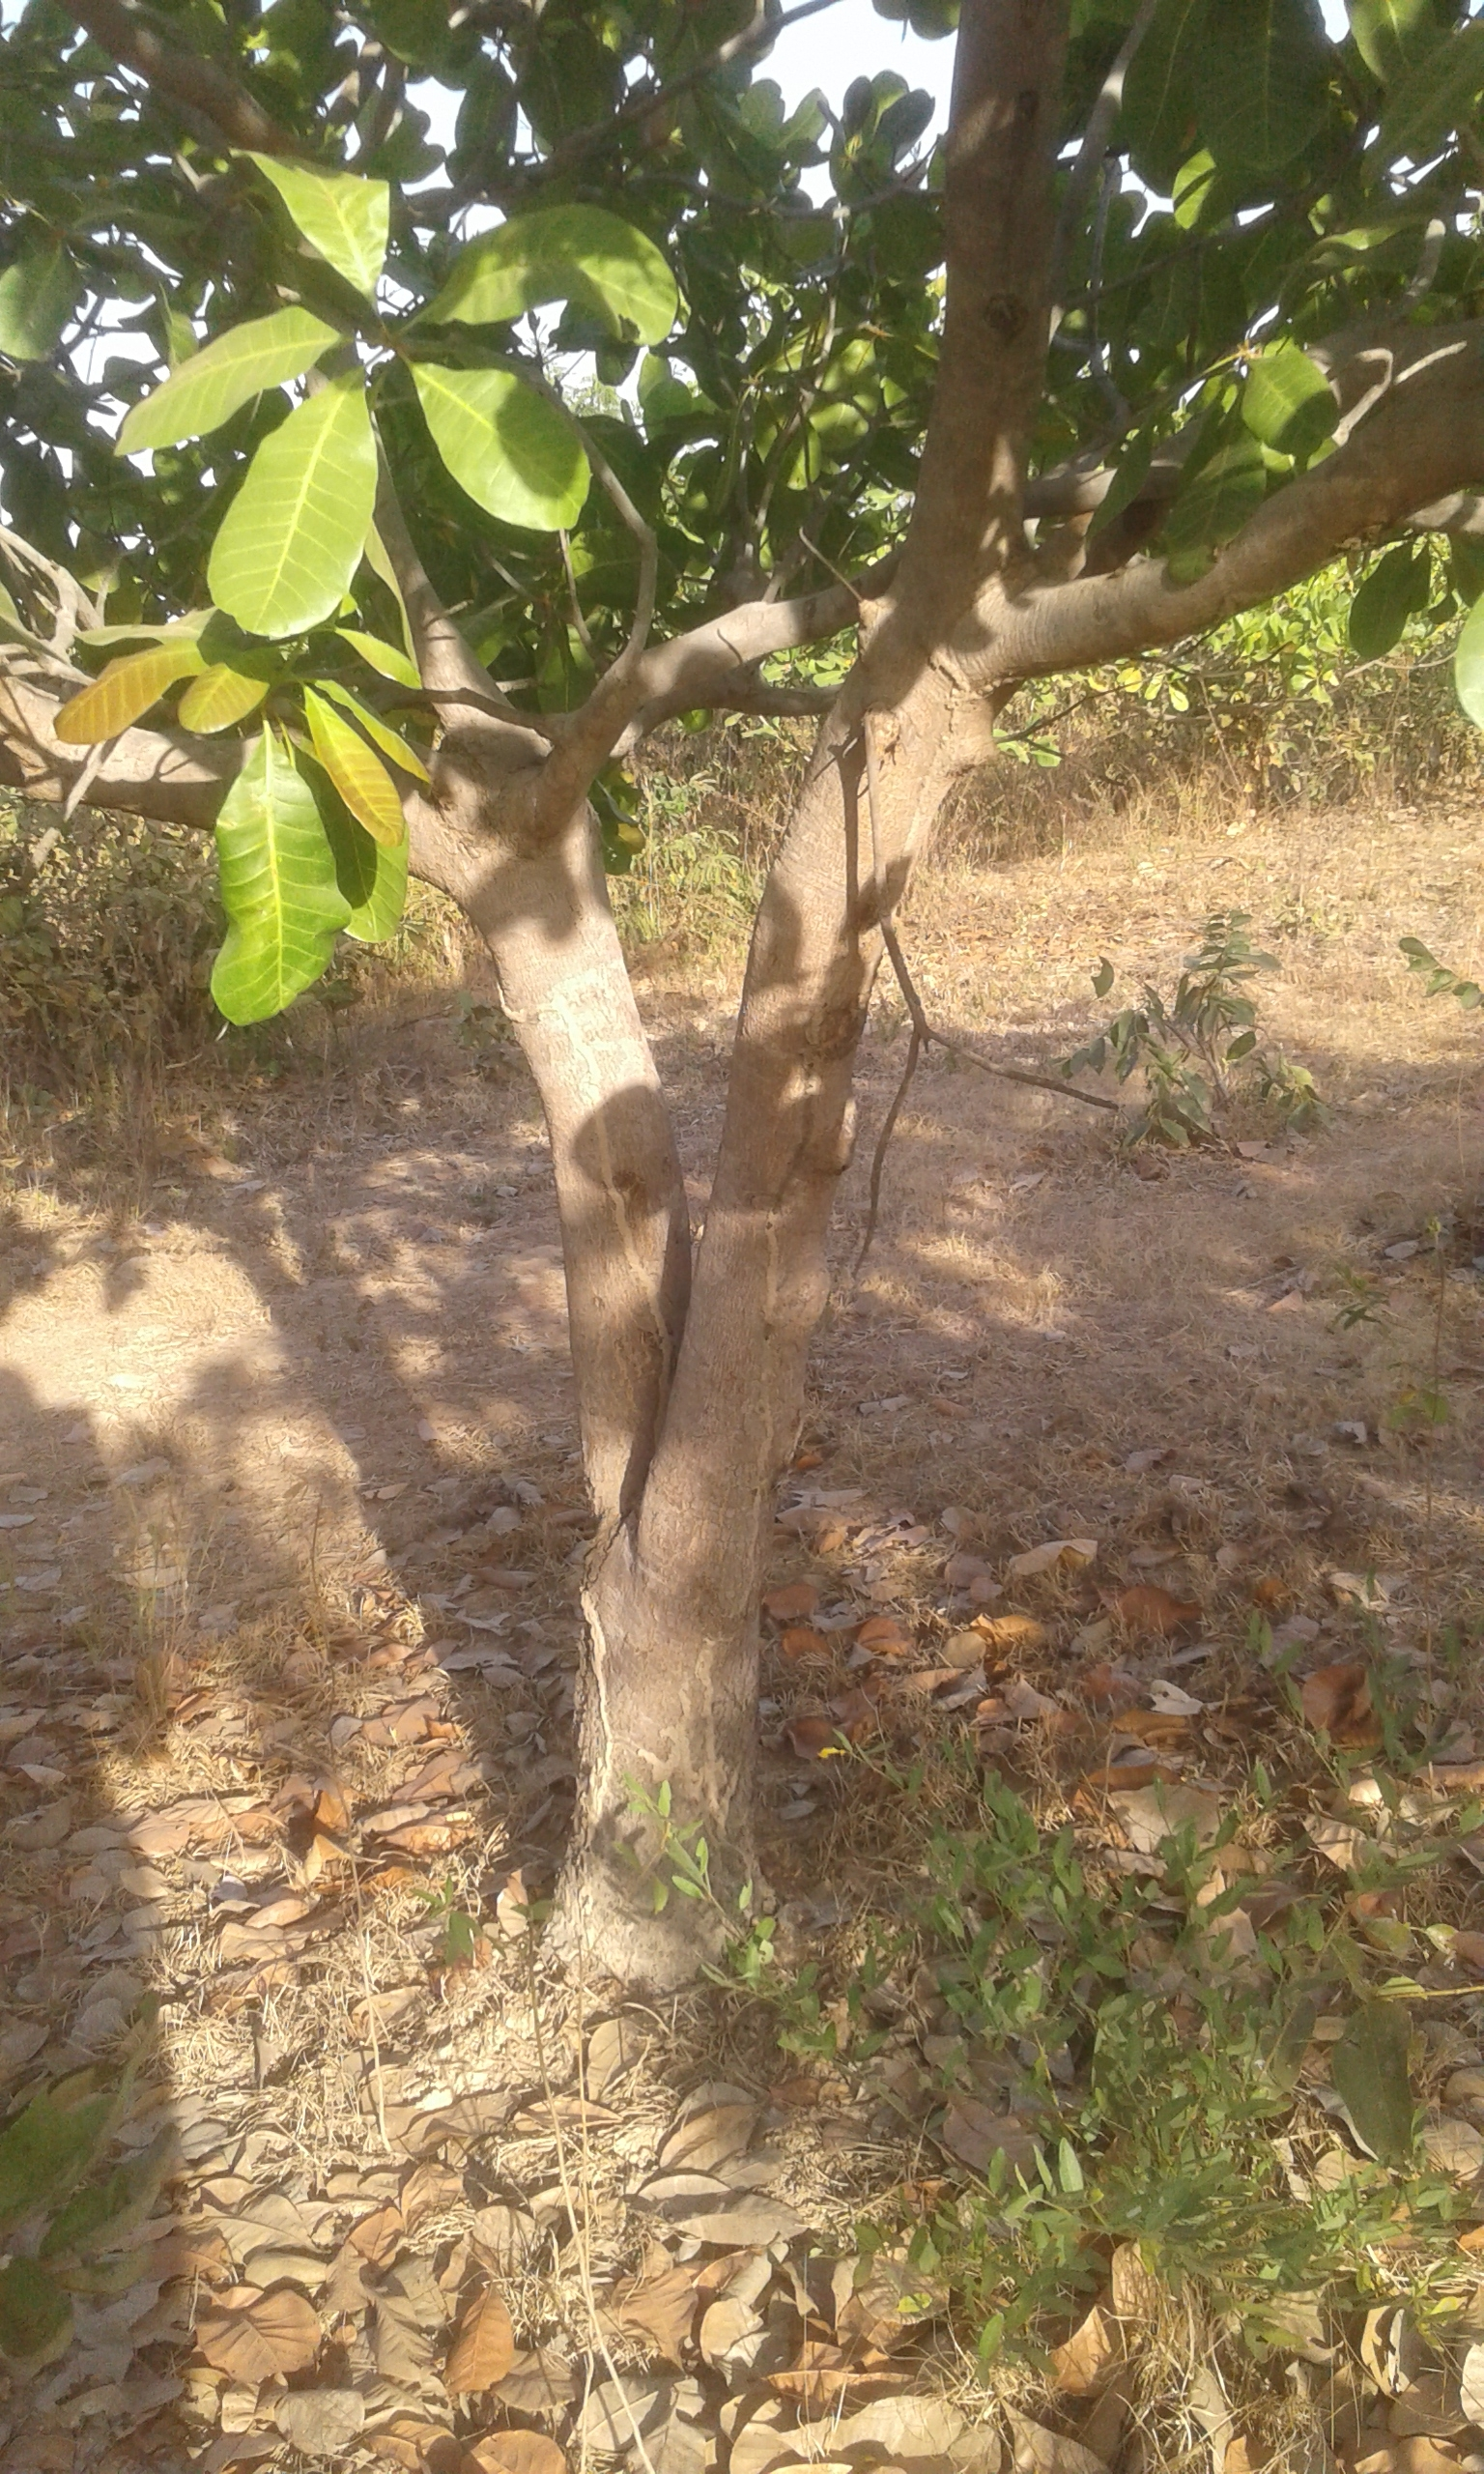Termites: (549, 1562, 735, 1947), (556, 1059, 696, 1377), (749, 1117, 800, 1507)
